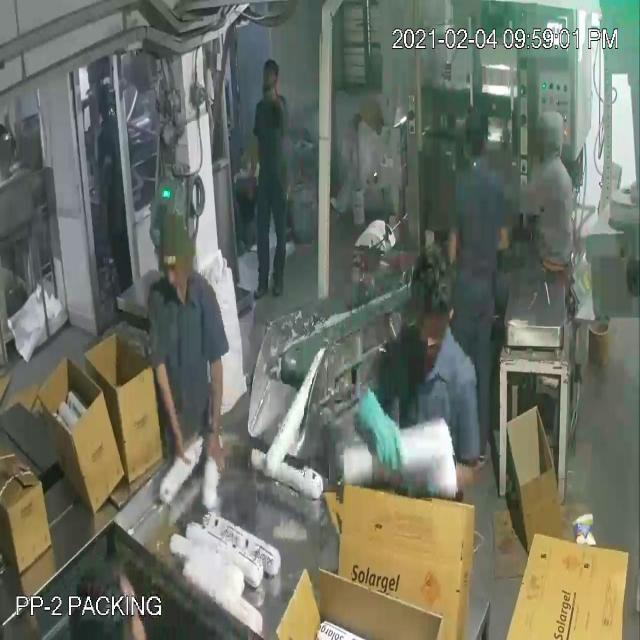No_Gloves: (15, 80, 380, 424)
